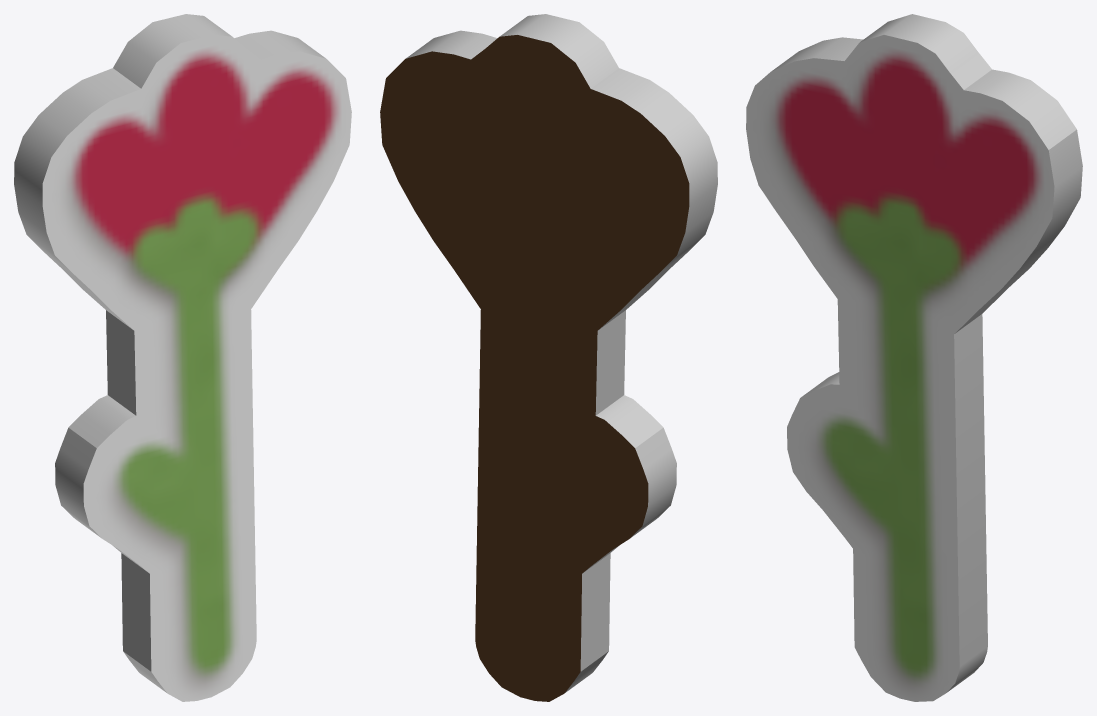
The model's file is flowerPickup.fbx.
3 renders of one model, left to right at view 1: azimuth 30°, elevation 25°; view 2: azimuth 150°, elevation 25°; view 3: azimuth 330°, elevation 25°, orthographic.
Parts seen in each view (by area): view 1: flower 2; view 2: flower 2; view 3: flower 2.
Boxes of the visible parts, x1=… form: flower 2: x1=14, y1=14, x2=351, y2=701; flower 2: x1=380, y1=14, x2=717, y2=701; flower 2: x1=746, y1=14, x2=1082, y2=701.
Size of the model in its own units: 22.32 by 45.63 by 3.55.
